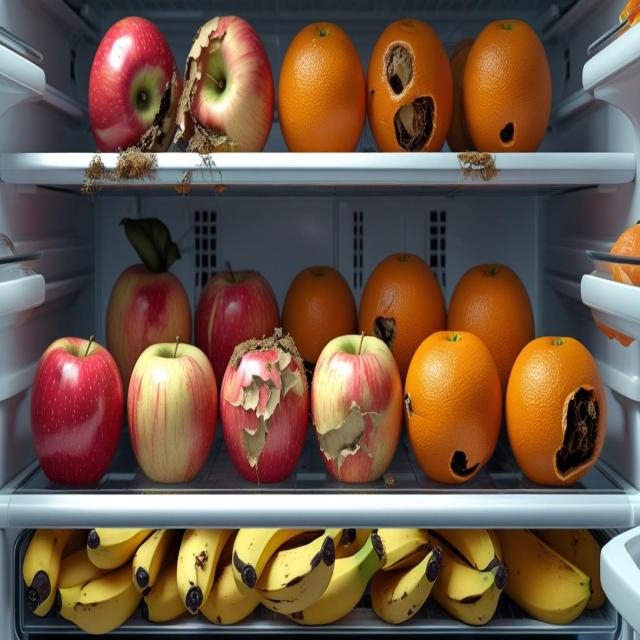apple: (170, 16, 274, 154), (220, 328, 309, 483), (31, 336, 123, 484), (311, 335, 403, 482), (127, 339, 217, 482), (89, 17, 182, 151), (105, 264, 191, 393), (195, 268, 279, 389)
banana: (490, 530, 590, 624), (284, 537, 380, 625), (431, 531, 506, 624), (256, 532, 335, 614), (59, 564, 142, 634), (371, 548, 441, 624), (232, 528, 303, 597), (177, 530, 232, 614), (23, 530, 73, 615), (201, 565, 260, 624), (142, 549, 186, 620), (87, 528, 152, 569), (132, 529, 173, 594), (378, 529, 429, 570)
orange: (506, 336, 606, 485), (405, 331, 503, 483), (447, 264, 534, 401), (462, 19, 551, 152), (358, 253, 446, 386), (367, 18, 453, 151), (278, 23, 365, 152), (281, 266, 357, 383)
